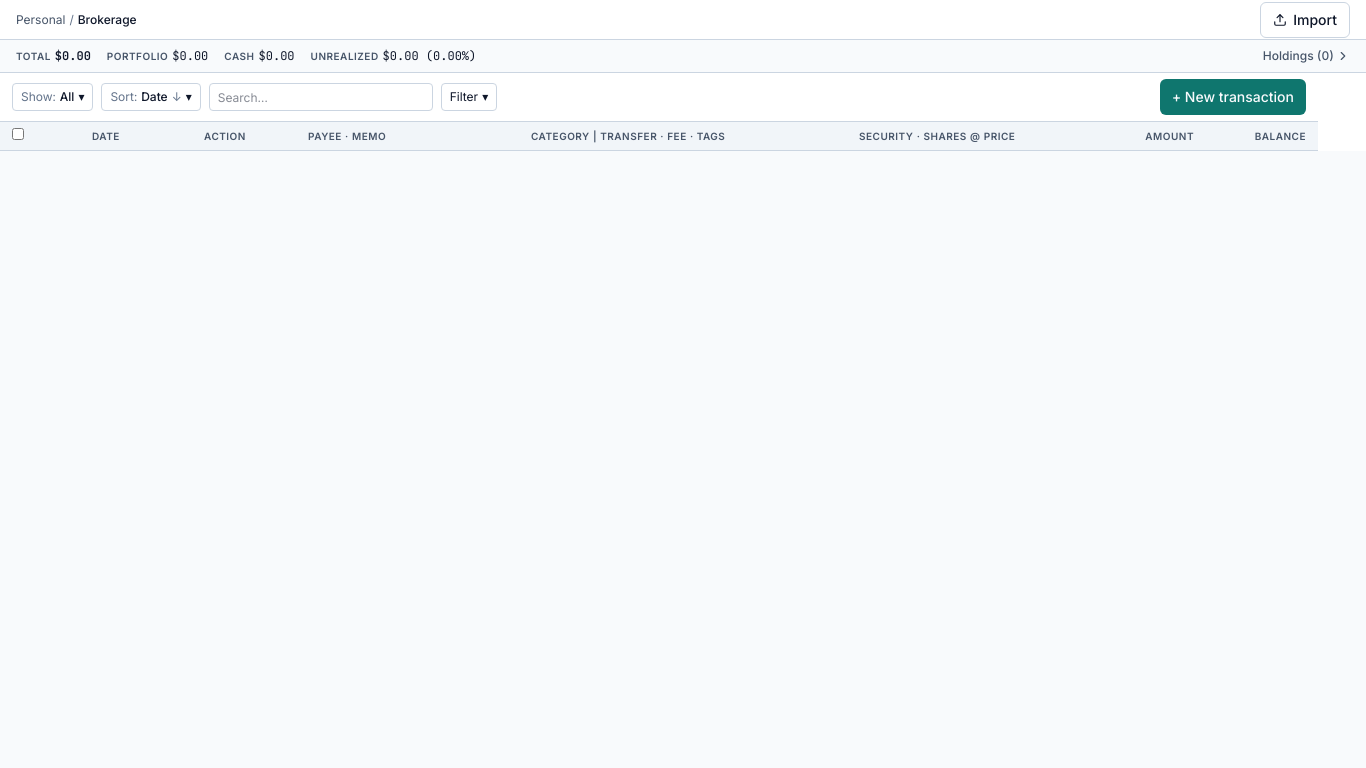
Scenario: InvestmentRegisterPage › all-mode delete is enabled and a large count shows the typed-confirm
This screenshot has width=1366, height=768.
Click the checkbox named "select all transactions in this account": [18, 134] box [12, 128, 24, 140]
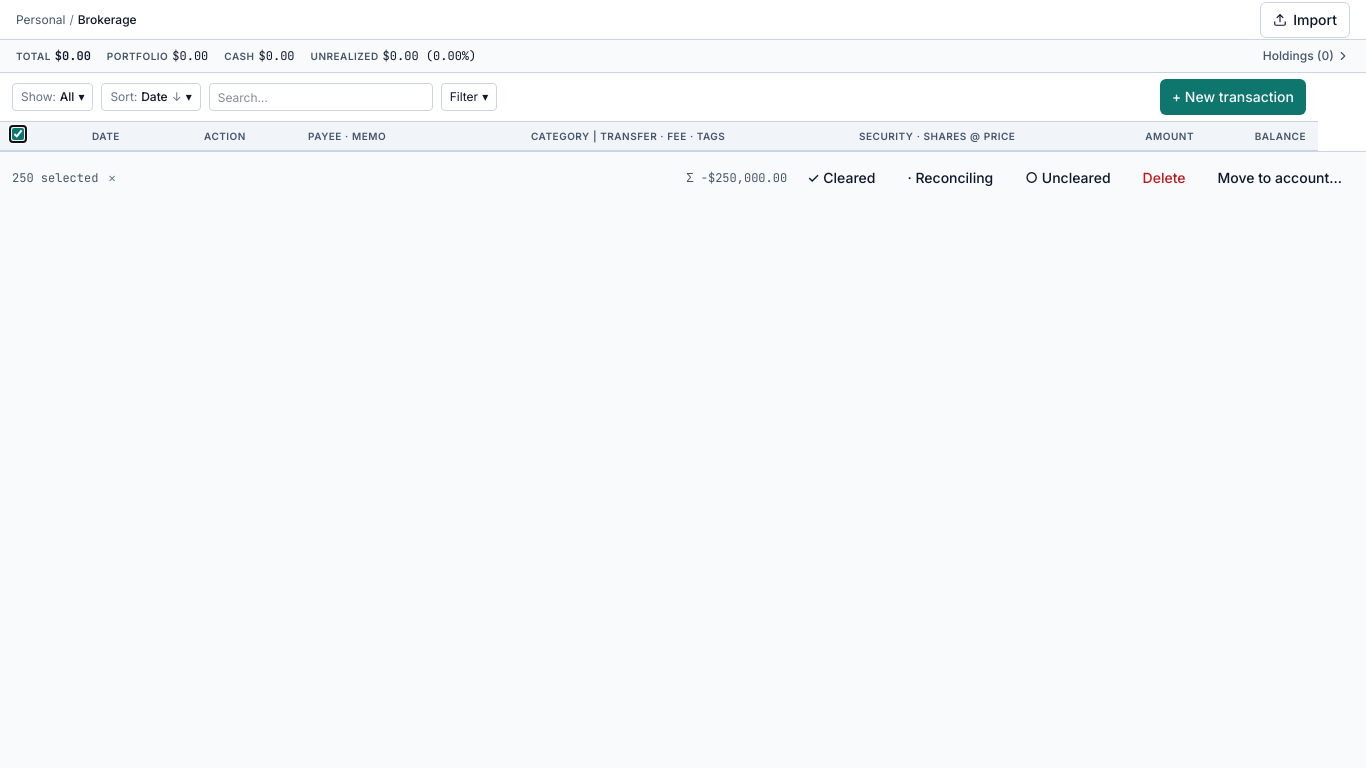
Result: the button "Delete" is enabled
Click the button "Delete": [1164, 178] box [1131, 160, 1198, 196]
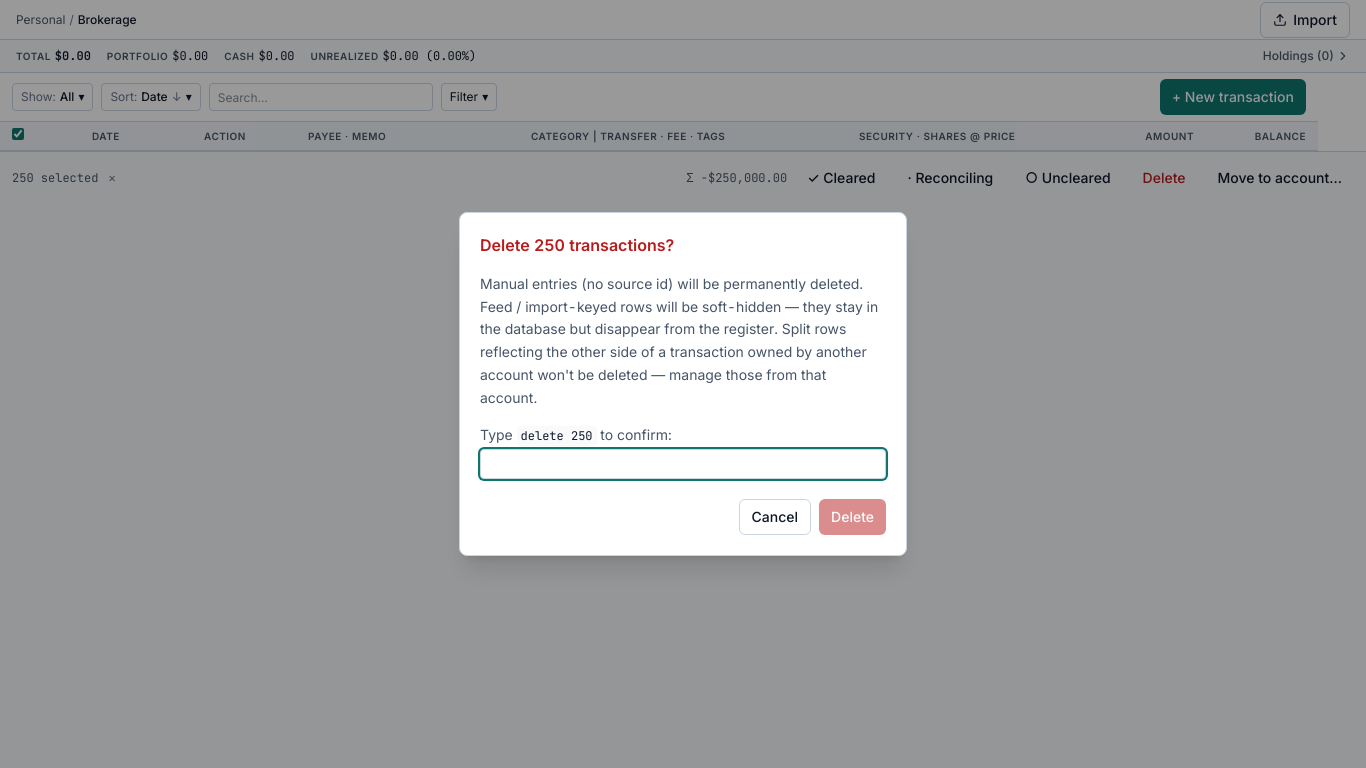
Result: the dialog shows "Delete 250 transactions?" at [480, 235, 674, 255]
Result: the field is shown at [480, 449, 886, 479]
